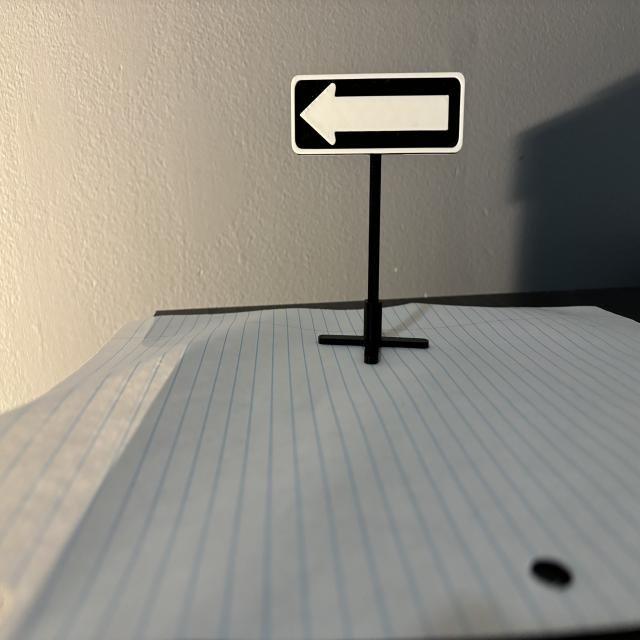sign_oneway_left: (293, 74, 466, 154)
